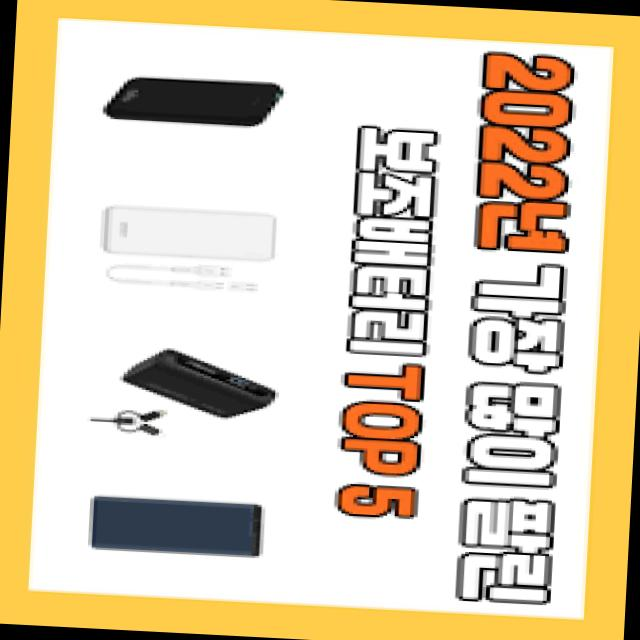portable-charger: (78, 486, 272, 568), (112, 341, 290, 424), (94, 67, 294, 137), (98, 197, 290, 265)
